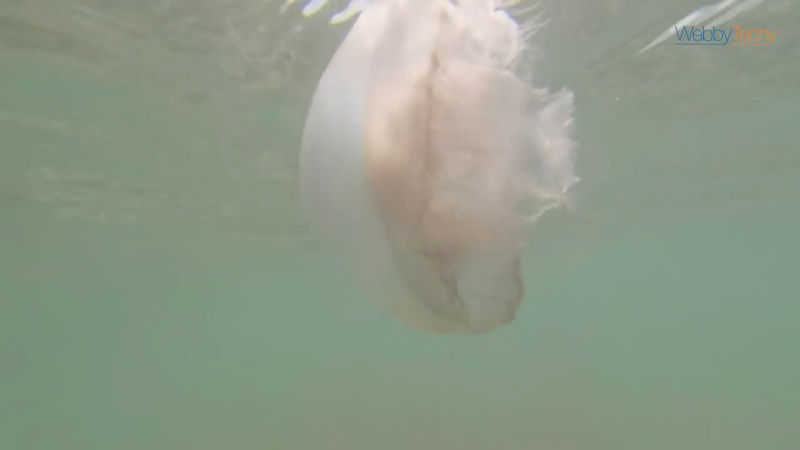white jellyfish: (290, 1, 580, 344)
